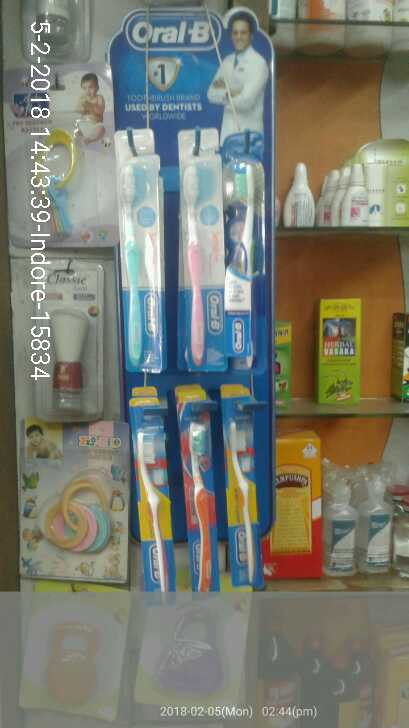oralb: (115, 154, 165, 377), (175, 154, 222, 371), (132, 402, 179, 600), (223, 402, 271, 593), (224, 158, 266, 366), (182, 405, 218, 596)
